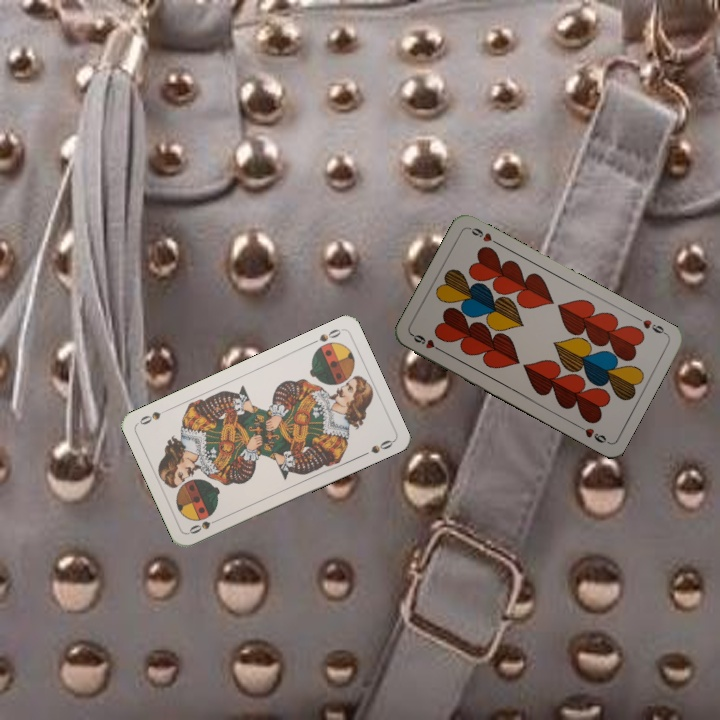H9: (408, 330, 446, 355), (639, 315, 670, 337)
SO: (185, 513, 223, 536), (306, 325, 343, 347)
